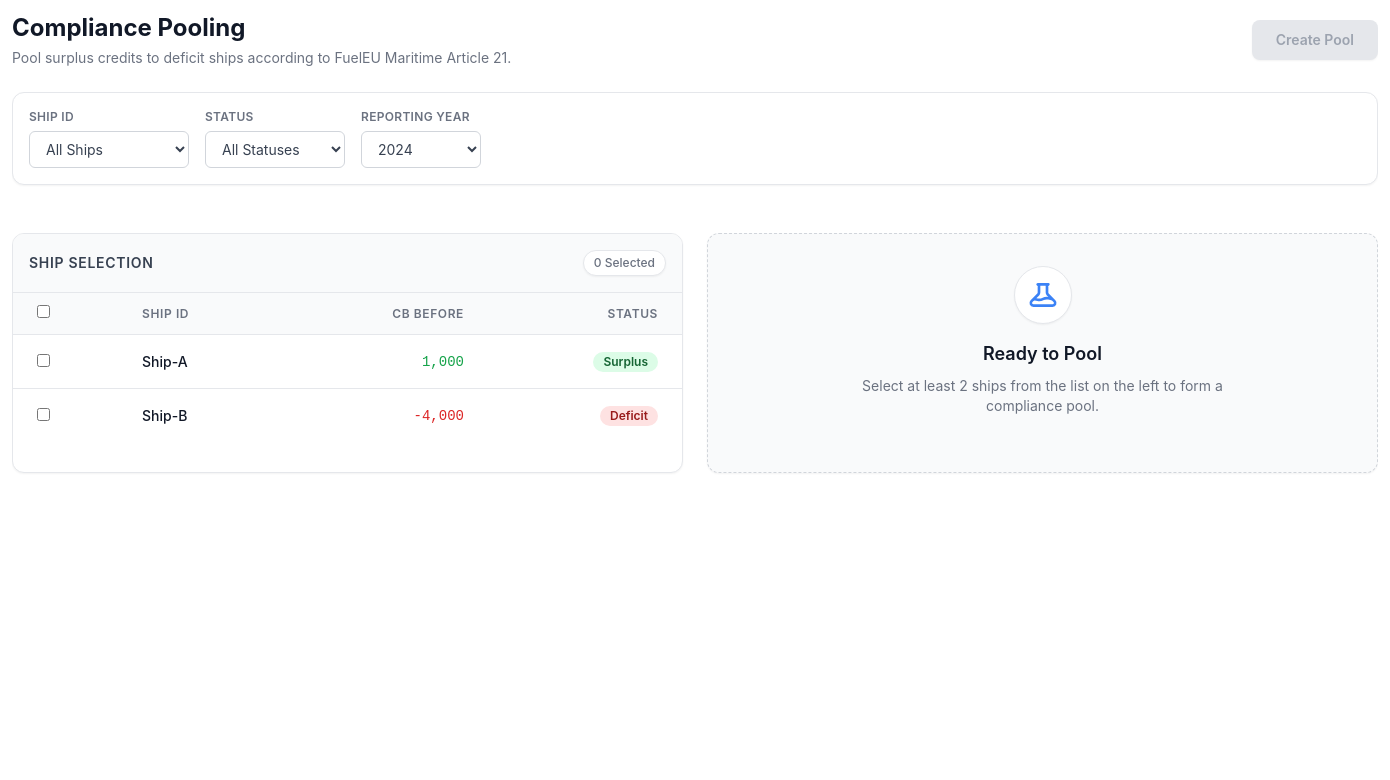
Test: PoolingPage › shows invalid pool when total CB < 0
The image size is (1390, 780).
Click the checkbox next to "Ship-A": point(44, 360) [37, 354, 50, 366]
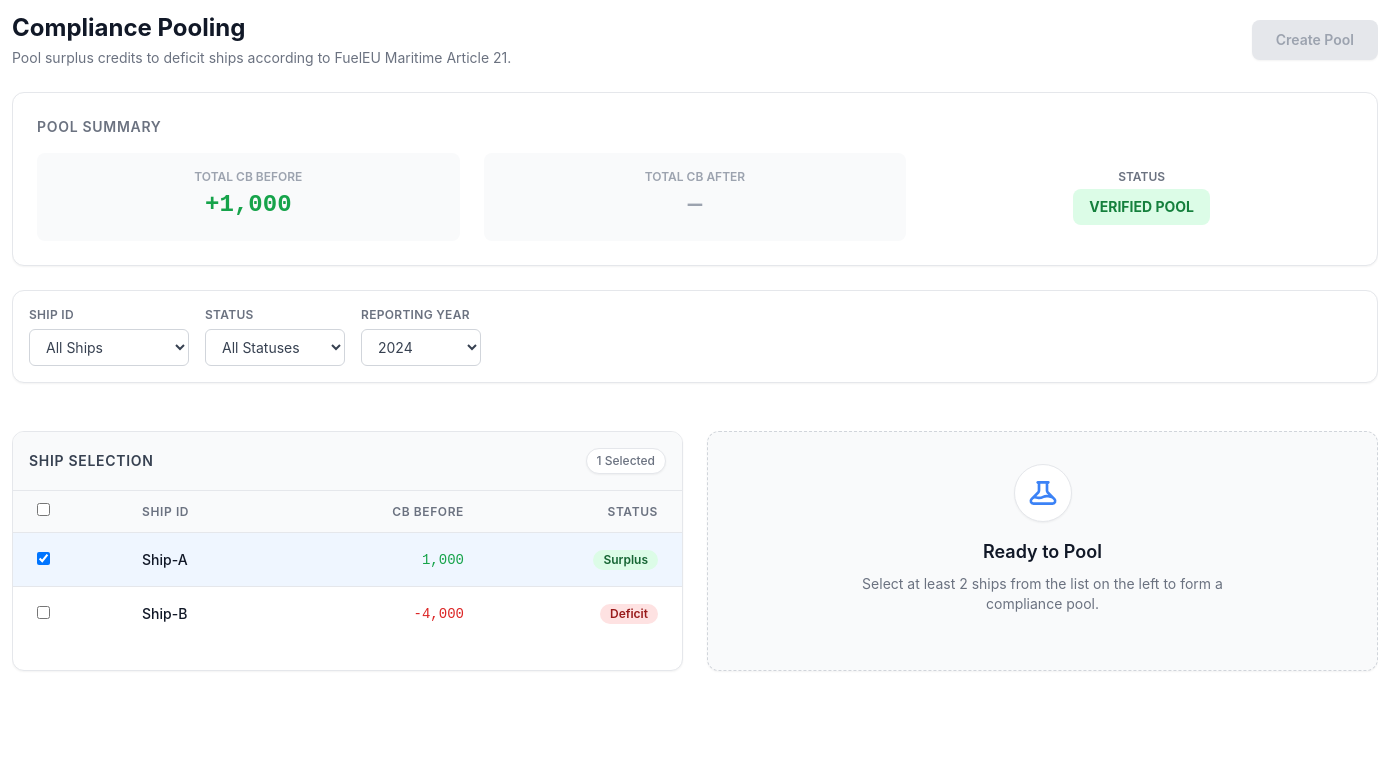
Click the checkbox next to "Ship-B": point(44, 612) [37, 606, 50, 618]
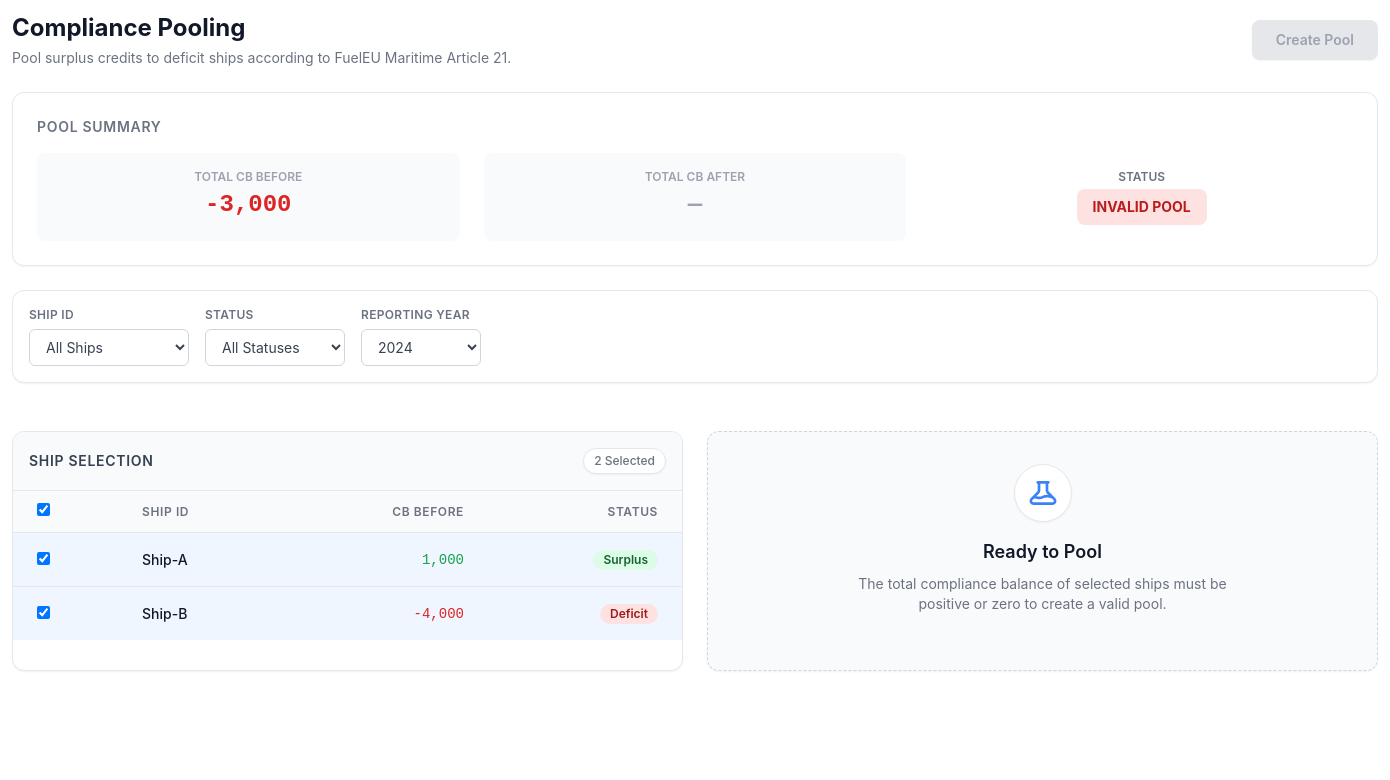
Expected: the button "Create Pool" is disabled, [1252, 20, 1378, 60]
Now the text "INVALID POOL" is shown, box [1076, 189, 1207, 225]
